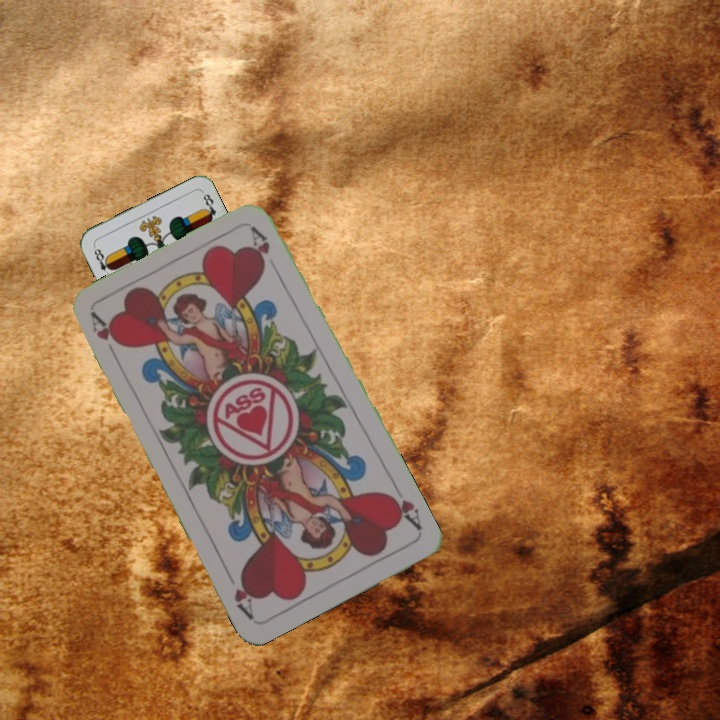E8: (90, 242, 116, 280)
HA: (382, 479, 425, 534), (86, 309, 125, 365)
